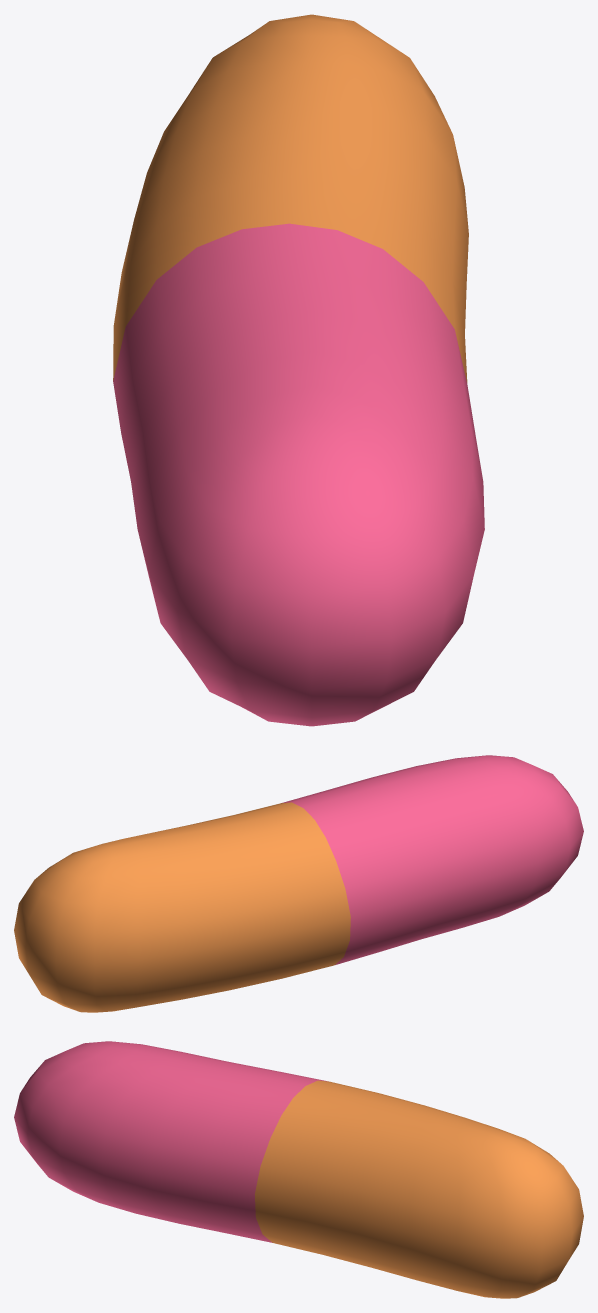
File: Gummy_B_03.fbx
3 renders of one model, top to bottom at view 1: azimuth 30°, elevation 25°; view 2: azimuth 150°, elevation 25°; view 3: azimuth 270°, elevation 25°, orthographic. The views are drawn at different scales.
Visible parts, largest first — view 1: Gummy_B_03_LOD0; view 2: Gummy_B_03_LOD0; view 3: Gummy_B_03_LOD0.
Boxes of the visible parts, x1=… form: Gummy_B_03_LOD0: x1=113, y1=14, x2=484, y2=726; Gummy_B_03_LOD0: x1=14, y1=755, x2=583, y2=1012; Gummy_B_03_LOD0: x1=14, y1=1041, x2=583, y2=1298.
Size of what is drawn, in the model's own units: 411 by 185 by 601.
